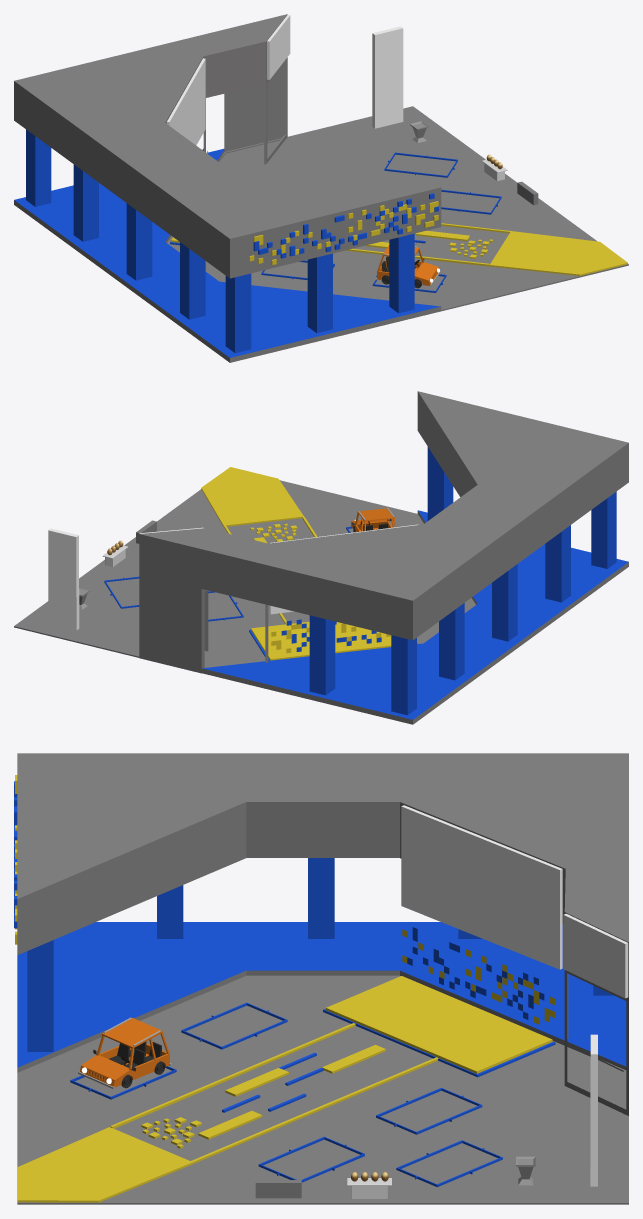
3 views of the same model, one above another, from view 1: azimuth 30°, elevation 25°; view 2: azimuth 150°, elevation 25°; view 3: azimuth 270°, elevation 25° (orthographic). The views are drawn at different scales.
Parts seen in each view (by area): view 1: 立方体.001, 立方体, 立方体.053, 立方体.034, 立方体.048, 立方体.003, 立方体.002, 立方体.049, 立方体.054, 立方体.005, 立方体.006, 立方体.004 (+6 smaller); view 2: 立方体.001, 立方体, 立方体.053, 立方体.034, 立方体.048, 立方体.052, 立方体.008, 立方体.007, 立方体.005, 立方体.006, 立方体.003, 立方体.004 (+3 smaller); view 3: 立方体, 立方体.001, 立方体.053, 立方体.054, 立方体.052, 立方体.034, 立方体.035, 立方体.002, 车身, 立方体.036, 立方体.005, 立方体.004 (+13 smaller).
Boxes of the visible parts, left/top/right/bottom form: 立方体.001: left=14, top=14, right=441, bottom=278; 立方体: left=14, top=106, right=628, bottom=362; 立方体.053: left=14, top=148, right=440, bottom=357; 立方体.034: left=489, top=231, right=627, bottom=275; 立方体.048: left=372, top=26, right=403, bottom=128; 立方体.003: left=225, top=273, right=251, bottom=353; 立方体.002: left=389, top=233, right=414, bottom=313; 立方体.049: left=307, top=253, right=332, bottom=333; 立方体.054: left=166, top=58, right=205, bottom=145; 立方体.005: left=126, top=203, right=152, bottom=280; 立方体.006: left=73, top=164, right=98, bottom=241; 立方体.004: left=180, top=242, right=205, bottom=319; 立方体.001: left=139, top=391, right=628, bottom=673; 立方体: left=14, top=480, right=628, bottom=724; 立方体.053: left=202, top=510, right=628, bottom=719; 立方体.034: left=201, top=467, right=303, bottom=526; 立方体.048: left=48, top=528, right=79, bottom=630; 立方体.052: left=251, top=621, right=391, bottom=660; 立方体.008: left=309, top=615, right=335, bottom=695; 立方体.007: left=391, top=635, right=416, bottom=715; 立方体.005: left=492, top=564, right=517, bottom=641; 立方体.006: left=439, top=603, right=464, bottom=680; 立方体.003: left=591, top=491, right=616, bottom=568; 立方体.004: left=545, top=525, right=570, bottom=602; 立方体: left=17, top=970, right=628, bottom=1204; 立方体.001: left=17, top=753, right=628, bottom=1115; 立方体.053: left=17, top=922, right=626, bottom=1067; 立方体.054: left=401, top=805, right=562, bottom=969; 立方体.052: left=326, top=976, right=552, bottom=1073; 立方体.034: left=17, top=1127, right=192, bottom=1202; 立方体.035: left=563, top=913, right=628, bottom=998; 立方体.002: left=27, top=940, right=53, bottom=1051; 车身: left=79, top=1017, right=169, bottom=1087; 立方体.036: left=258, top=1087, right=502, bottom=1187; 立方体.005: left=308, top=858, right=334, bottom=938; 立方体.004: left=157, top=885, right=183, bottom=938.
Bounding box in the file's own units: 64 × 19.29 × 60.31.
Materials: 16 (1 with a texture image).
